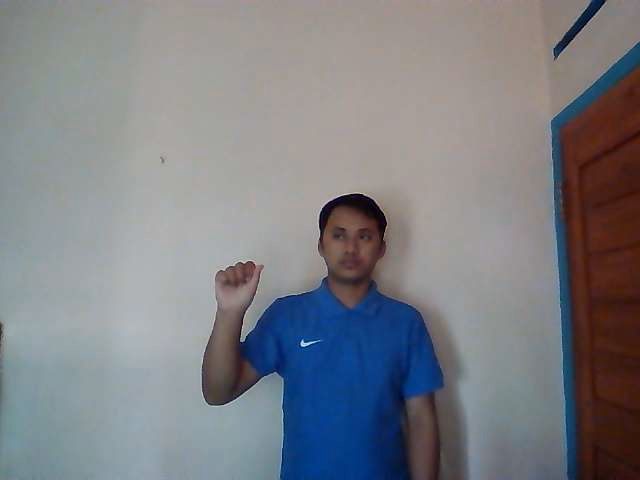A: (213, 261, 264, 312)
